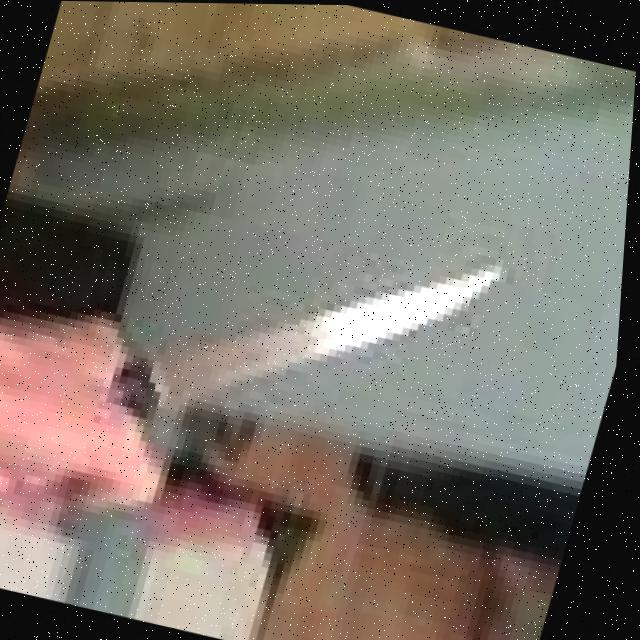knife: (126, 184, 514, 477)
